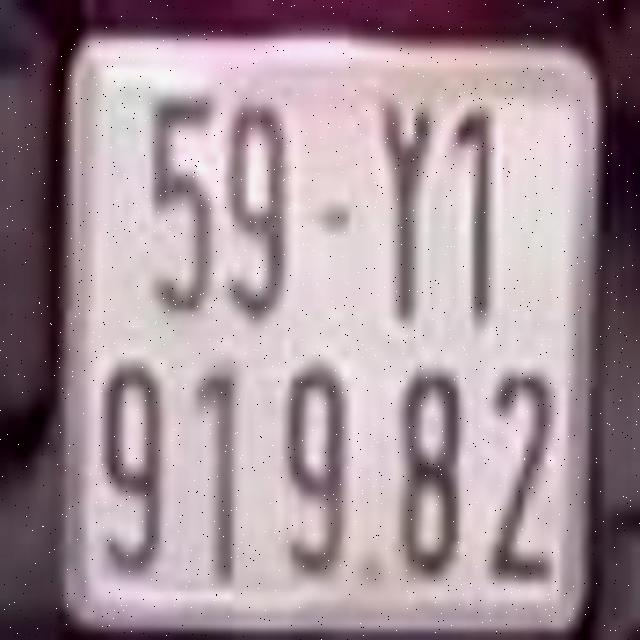1: (451, 104, 497, 323), (194, 369, 238, 580)
2: (492, 372, 554, 580)
5: (148, 95, 215, 315)
8: (403, 373, 460, 576)
9: (226, 100, 288, 318), (101, 361, 163, 575), (286, 361, 346, 575)
Y: (379, 96, 434, 323)
